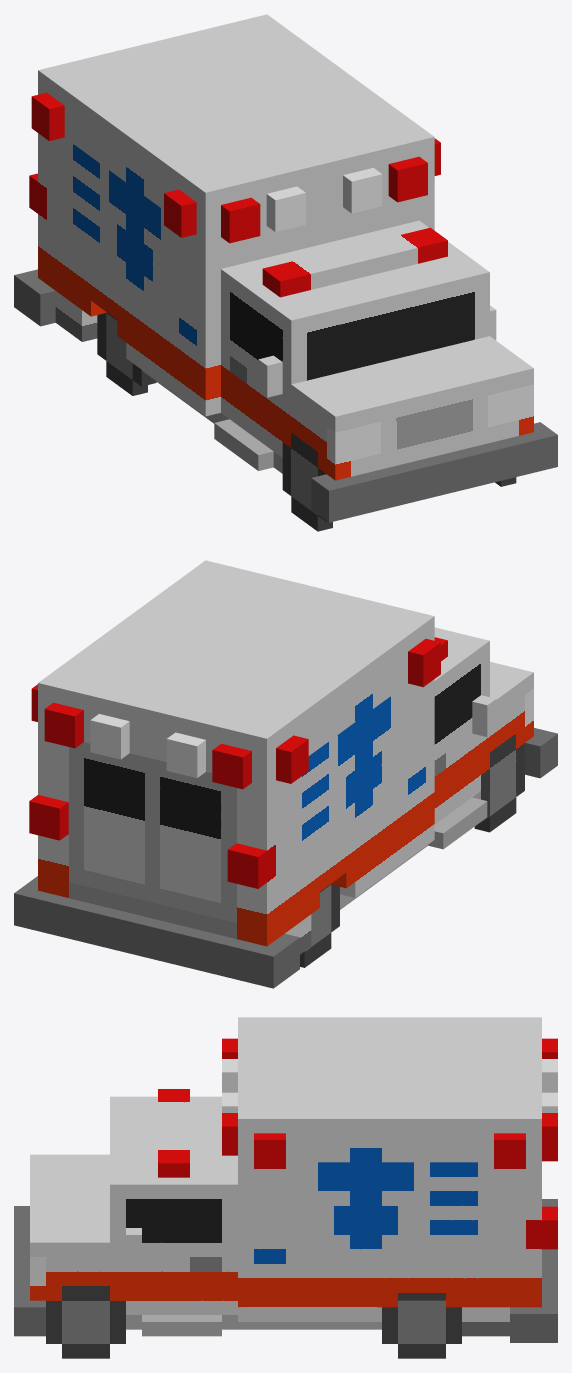
Rendered from veh_ambulance.dae.
The picture shows the model from 3 angles, top to bottom: view 1: azimuth 30°, elevation 25°; view 2: azimuth 150°, elevation 25°; view 3: azimuth 270°, elevation 25°; orthographic projection. The views are drawn at different scales.
Visible parts, largest first — view 1: veh_ambulance; view 2: veh_ambulance; view 3: veh_ambulance.
Part boxes in pixels (bbox=[...]): veh_ambulance: bbox=[14, 14, 557, 531]; veh_ambulance: bbox=[14, 560, 557, 988]; veh_ambulance: bbox=[14, 1017, 557, 1358].
Size of the model in its own units: 1.7 by 3.4 by 1.7.
1 material, 1 textured.
